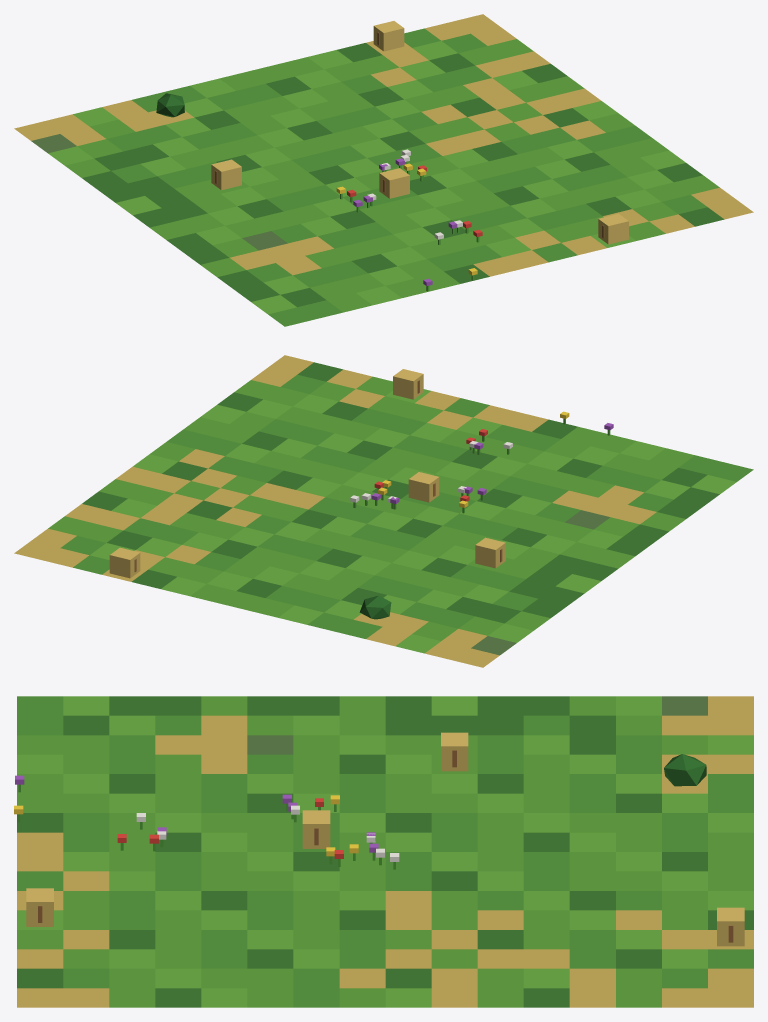
Rendered from chunk_8_9.glb.
The picture shows the model from 3 angles, top to bottom: view 1: azimuth 30°, elevation 25°; view 2: azimuth 150°, elevation 25°; view 3: azimuth 270°, elevation 25°; orthographic projection. The views are drawn at different scales.
Parts seen in each view (by area): view 1: chunk_8_9; view 2: chunk_8_9; view 3: chunk_8_9.
Boxes of the visible parts, bbox=[...] form: chunk_8_9: bbox=[14, 14, 753, 326]; chunk_8_9: bbox=[14, 355, 753, 667]; chunk_8_9: bbox=[14, 696, 753, 1007].
Size of the model in its own units: 16 by 0.7672 by 16.07.
